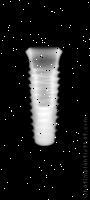Cowellmedi: (25, 47, 63, 147)
